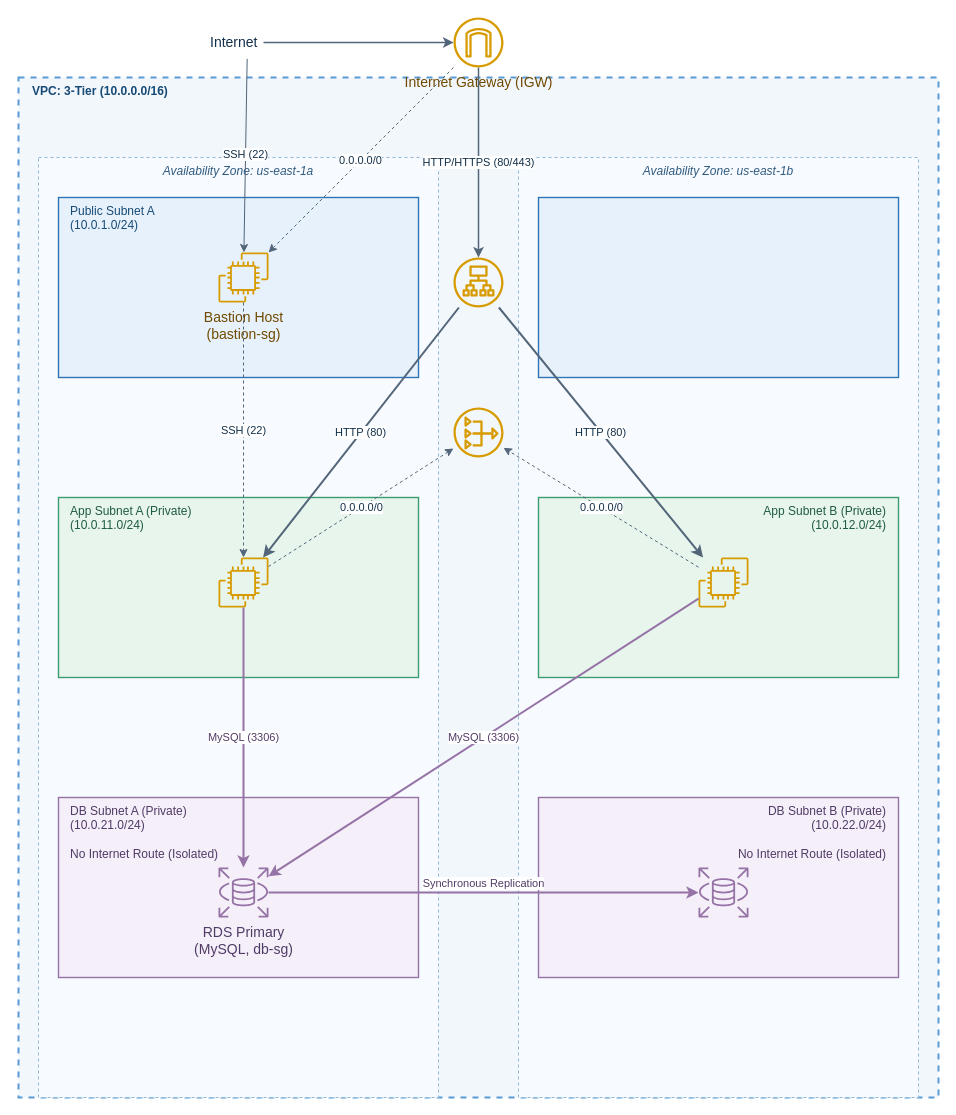
The diagram is 956 pixels wide and 1115 high, and some of its shapes have lost their labels. Each missing label, with the centre of its shape:
"ALB (alb-sg)" belongs at point (478, 282).
"App Server A (app-sg)" belongs at point (243, 582).
"App Server B (app-sg)" belongs at point (723, 582).
"Public Subnet B (10.0.2.0/24)" belongs at point (718, 287).
"RDS Standby (Passive, db-sg)" belongs at point (723, 892).
"Regional NAT Gateway (HA, Multi-AZ, Auto-expanding)" belongs at point (478, 432).
